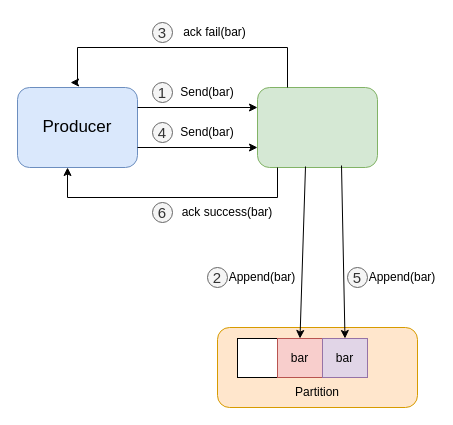
Image size: 453x425. Some labels were removed from this diagram. The shapes that lost their labels are listed below. From the top down, each one's box as (x1, y1, x2, y2) in pixels, then its label:
(256, 86, 378, 168): Kafka Broker
(236, 338, 282, 378): foo
